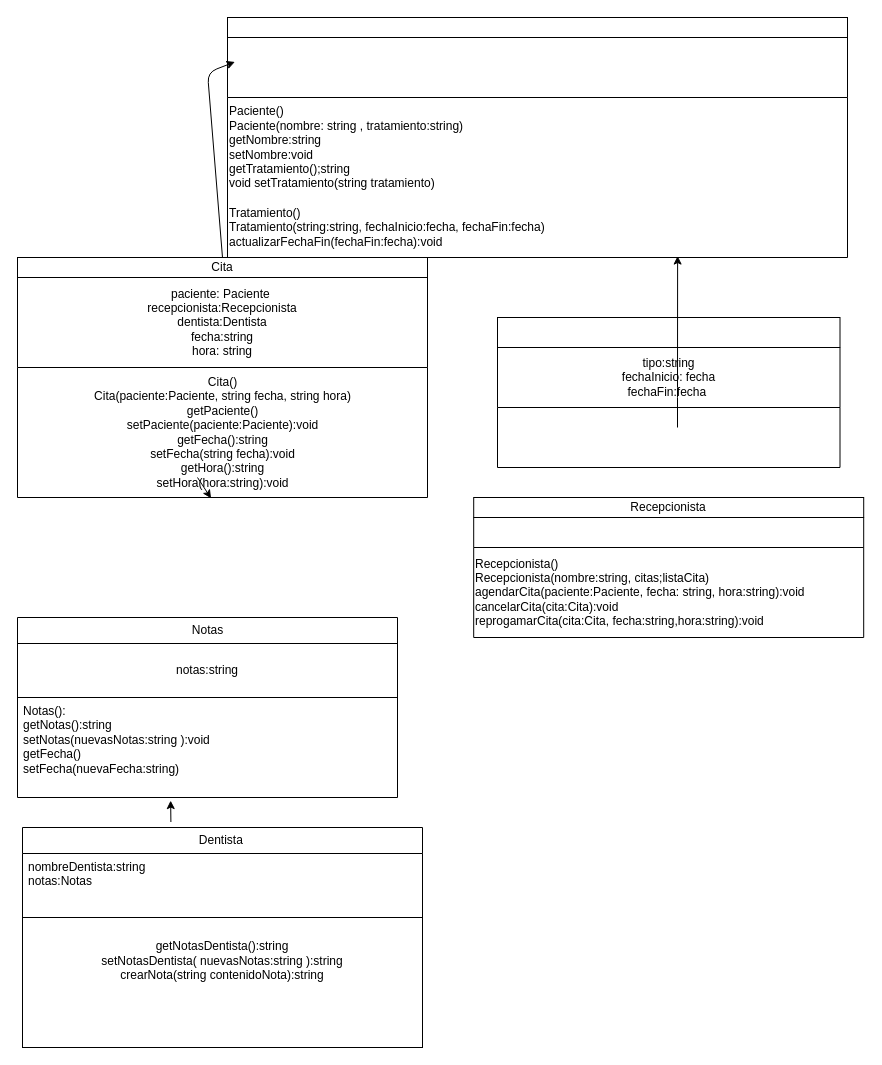
Some shapes in this 882 by 1065 pixel diagram are drawn without their labels. Each missing label, with the box of its shape:
nombre string: tratamientos:listaCita: (473, 516, 864, 638)
nombre string: vector<Cita>citas tratamiento:Tratamiento: (226, 36, 848, 258)
Paciente: (226, 16, 848, 38)
Tratamiento: (496, 316, 840, 348)
